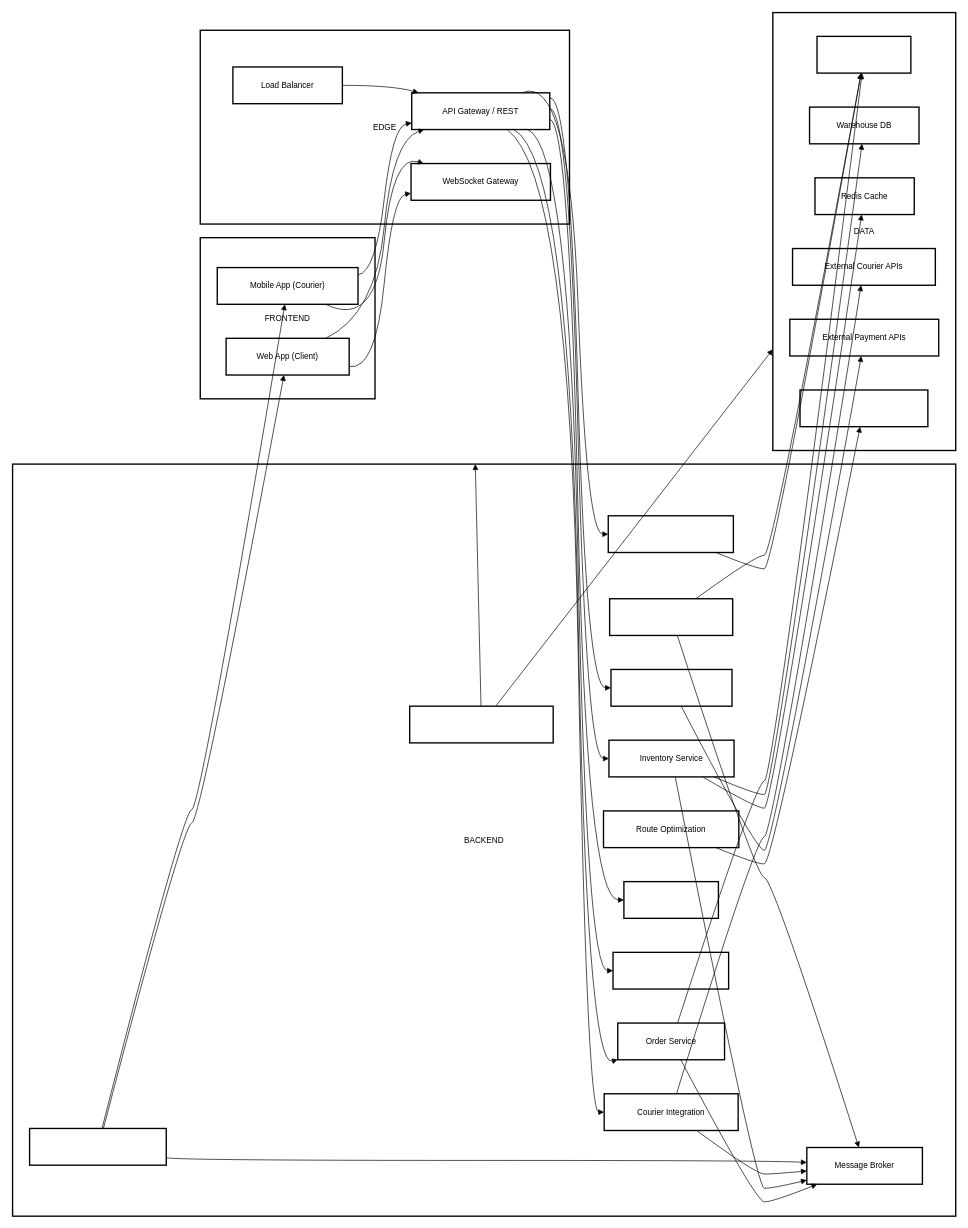
The diagram is 968 pixels wide and 1228 high, and some of its shapes have lost their labels. Here are the shapes that lost their labels. From the top down, the centre of each, then its label:
At point 863,54: "Primary DB".
At point 863,408: "Maps / Geocoding".
At point 670,534: "Customer Service".
At point 671,617: "Analytics Service".
At point 671,687: "Payment Service".
At point 481,724: "Monitoring & Logging".
At point 671,900: "Auth & IAM".
At point 670,970: "Returns Service".
At point 98,1146: "Notification Service".
